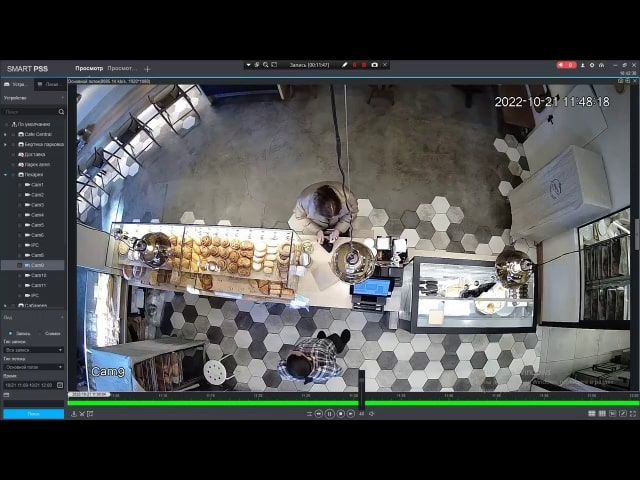barcounter: (83, 220, 543, 333)
pack: (312, 260, 346, 291)
person: (272, 327, 362, 383), (288, 182, 364, 243)
